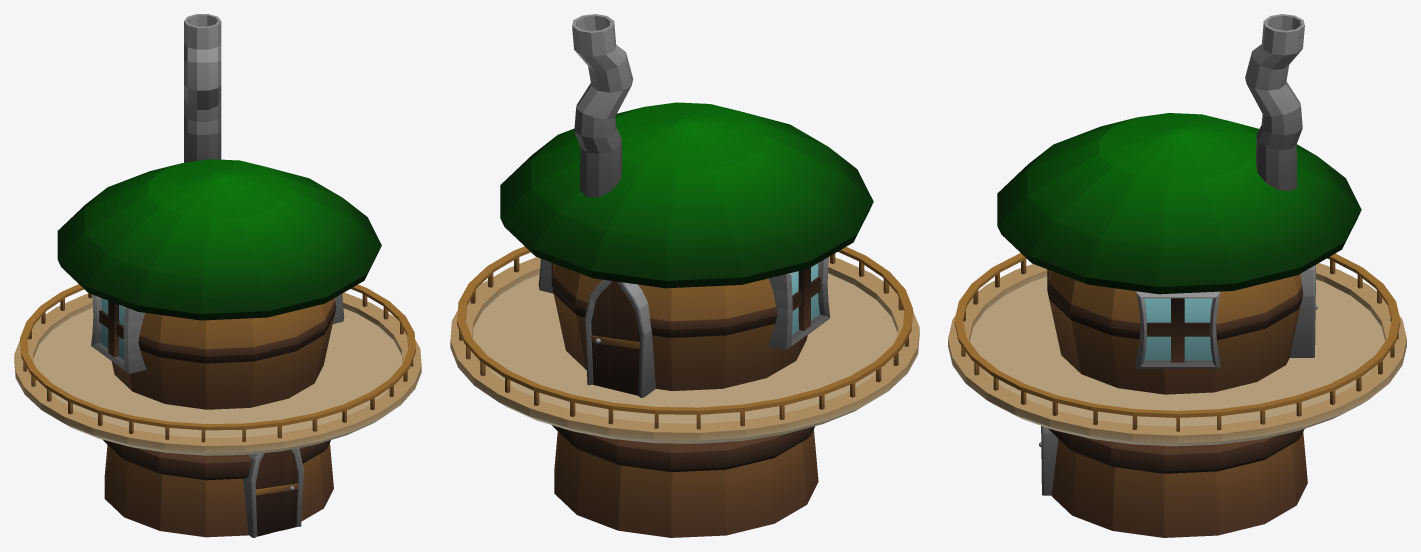
The model's file is Casa_2_elementosDecorativos_T.fbx.
3 views of the same model, side by side, from view 1: azimuth 30°, elevation 25°; view 2: azimuth 150°, elevation 25°; view 3: azimuth 270°, elevation 25° (orthographic). The views are drawn at different scales.
Visible parts, largest first — view 1: Casa 2.002; view 2: Casa 2.002; view 3: Casa 2.002.
Part boxes in pixels (<box>): Casa 2.002: <box>14,14,421,537</box>; Casa 2.002: <box>450,14,919,537</box>; Casa 2.002: <box>948,14,1406,537</box>.
Size of the model in its own units: 388 by 446 by 388.
